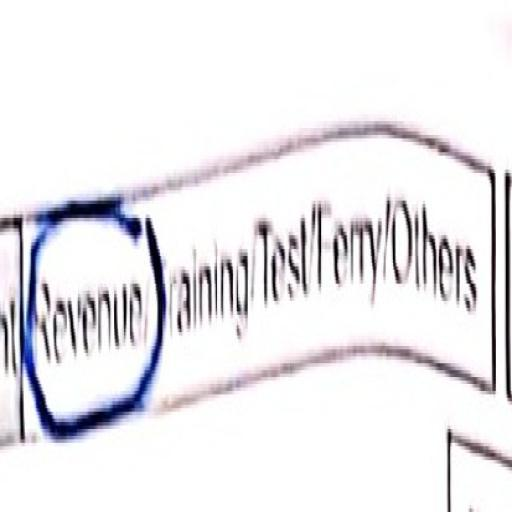check: (18, 144, 150, 461)
